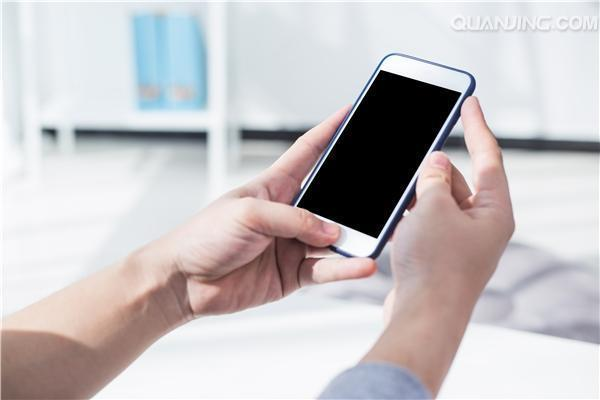reading: (142, 46, 528, 335)
